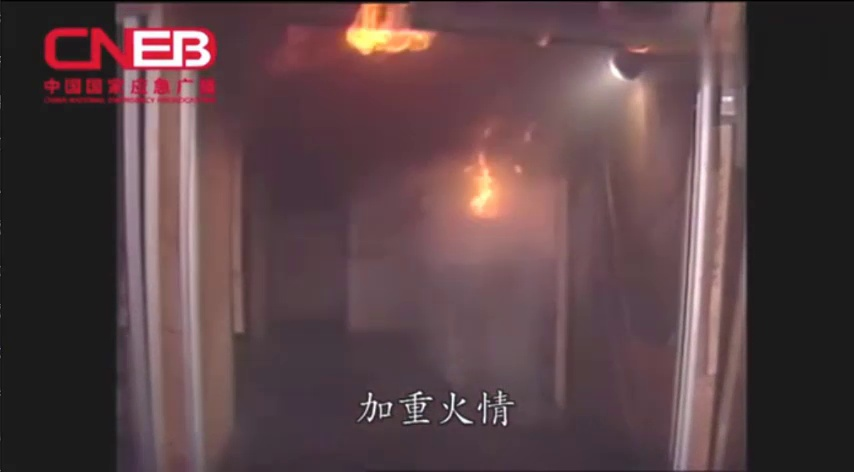fire: (335, 1, 444, 65), (451, 135, 513, 229)
